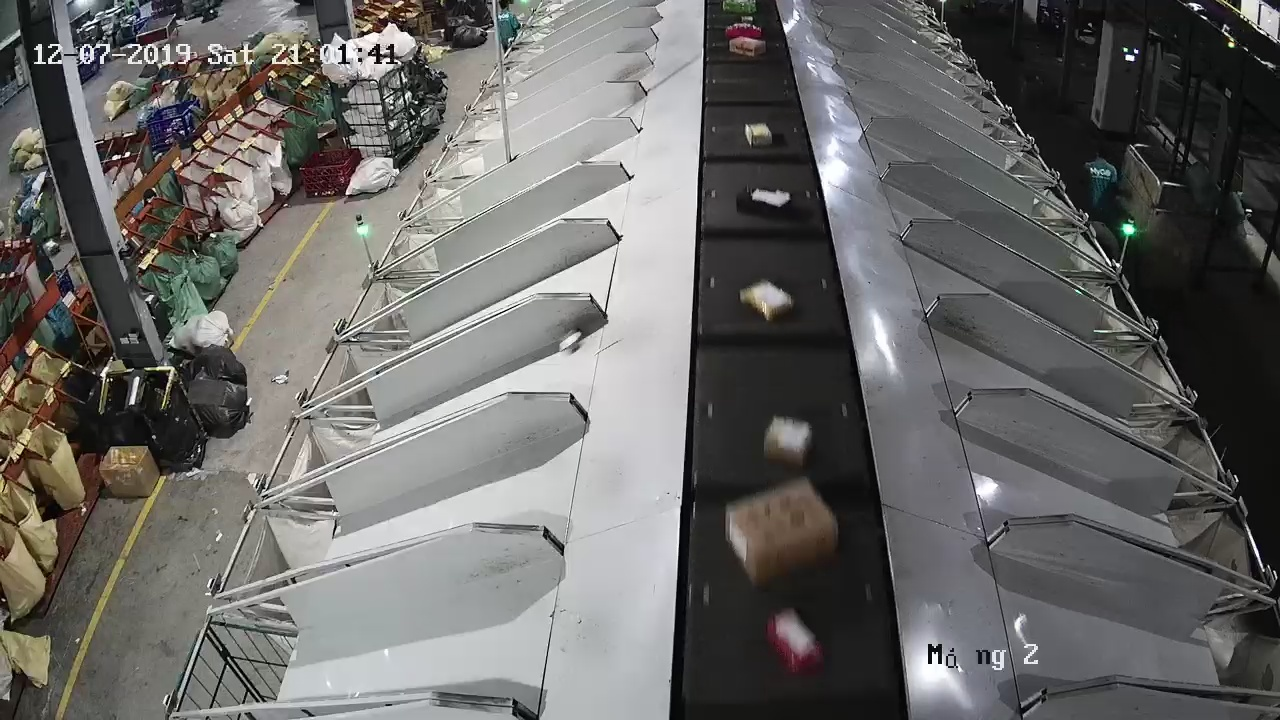parcel: (558, 327, 583, 352)
